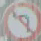Don't turn left: (3, 1, 40, 38)
